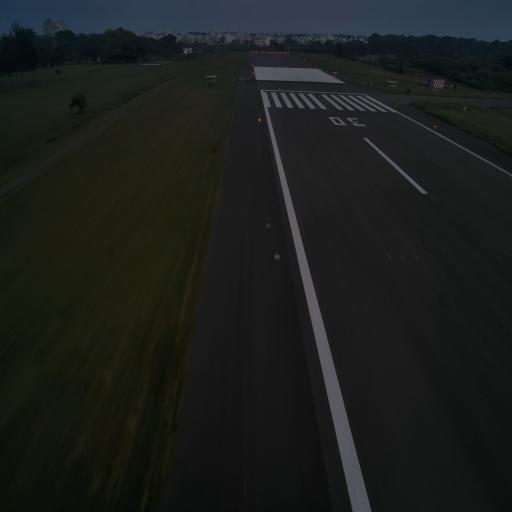off: (387, 253, 393, 263), (400, 252, 406, 262), (413, 252, 419, 262), (495, 252, 501, 262), (432, 194, 436, 203)
on: (274, 248, 280, 264)
